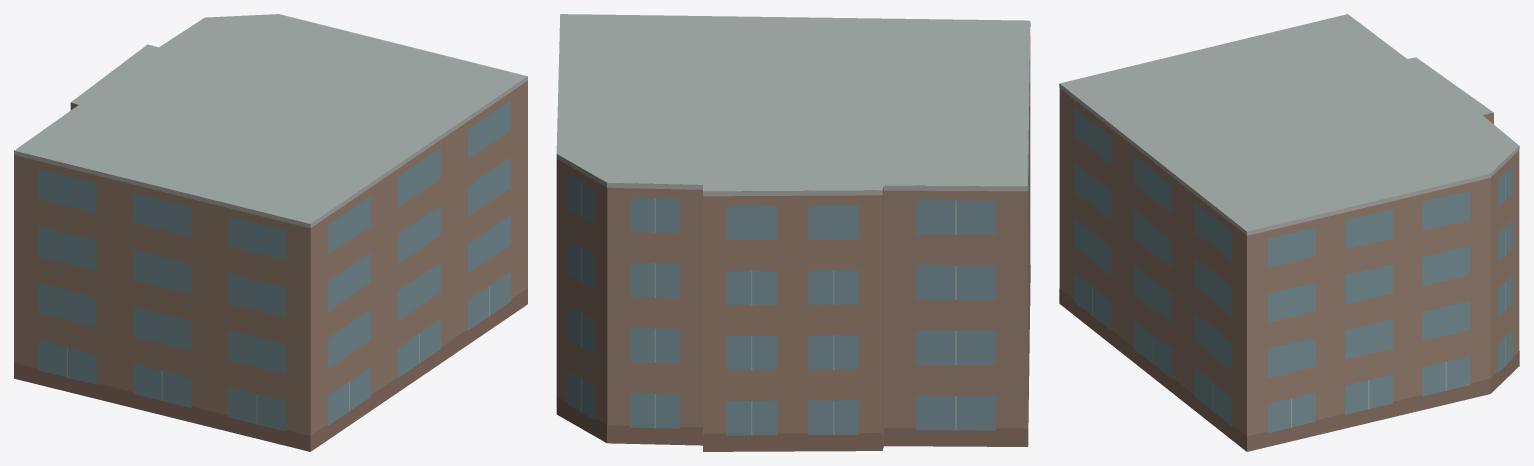
Rendered from survey-upis-32721948.glb.
The picture shows the model from 3 angles, left to right: view 1: azimuth 30°, elevation 25°; view 2: azimuth 150°, elevation 25°; view 3: azimuth 270°, elevation 25°; orthographic projection. The views are drawn at different scales.
Parts seen in each view (by area): view 1: survey-upis-32721948.tmp; view 2: survey-upis-32721948.tmp; view 3: survey-upis-32721948.tmp.
Part boxes in pixels (x1,y1,x2,y2): survey-upis-32721948.tmp: (14,14,527,451); survey-upis-32721948.tmp: (556,14,1030,451); survey-upis-32721948.tmp: (1059,14,1519,451).
Size of the model in its own units: 27.13 by 12.8 by 24.23.
